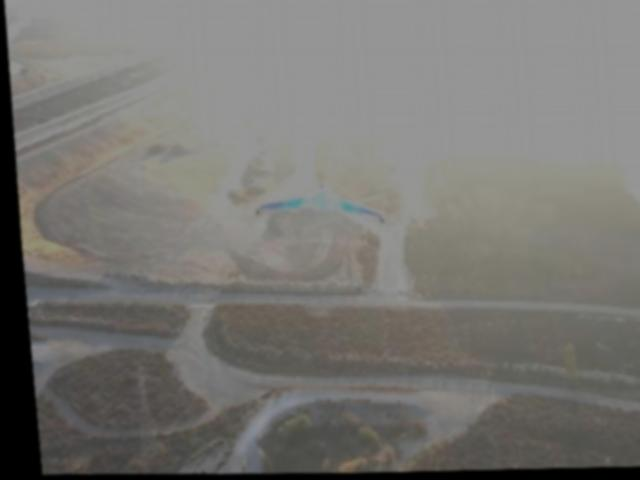iha: (250, 177, 378, 226)
